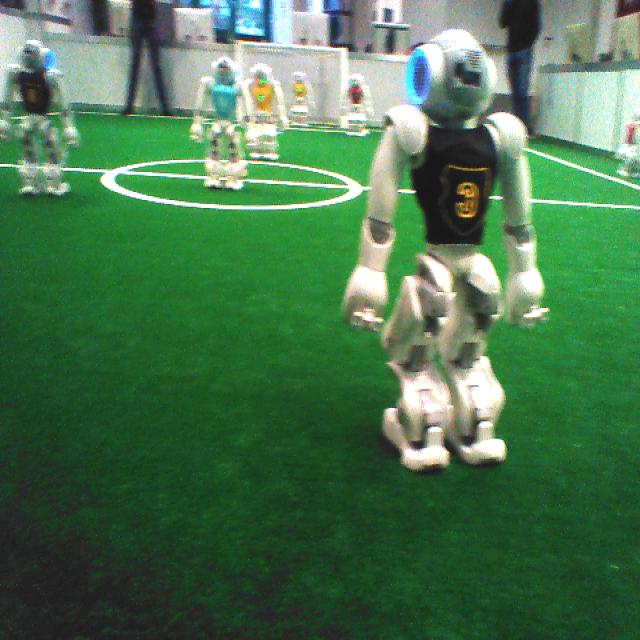goalpost: (338, 47, 351, 129), (231, 40, 243, 119)
